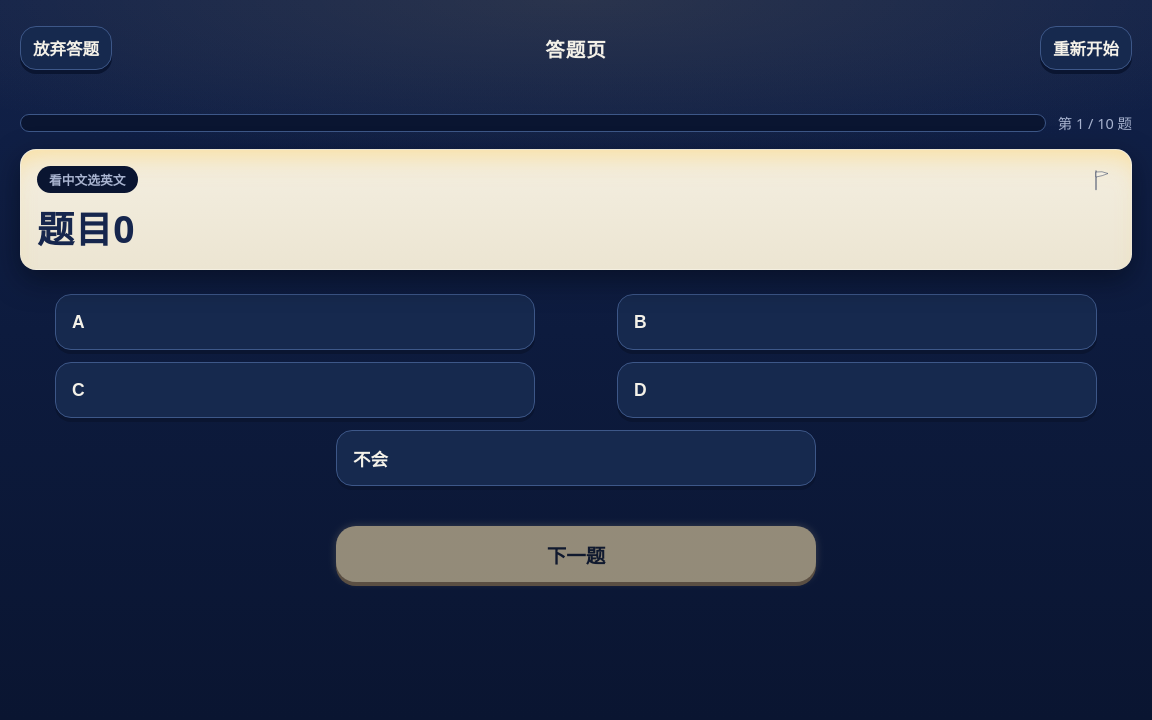
Test: T5 AC-R15-3-2/3-3/3-4 Quiz 三态 + 反馈（DOM） › AC-R15-3-4 不会：正确项 .reveal、「不会」disabled、feedback 图标存在
The image size is (1152, 720).
Click the button "不会": {"x": 370, "y": 460} left=336, top=430, right=816, bottom=486
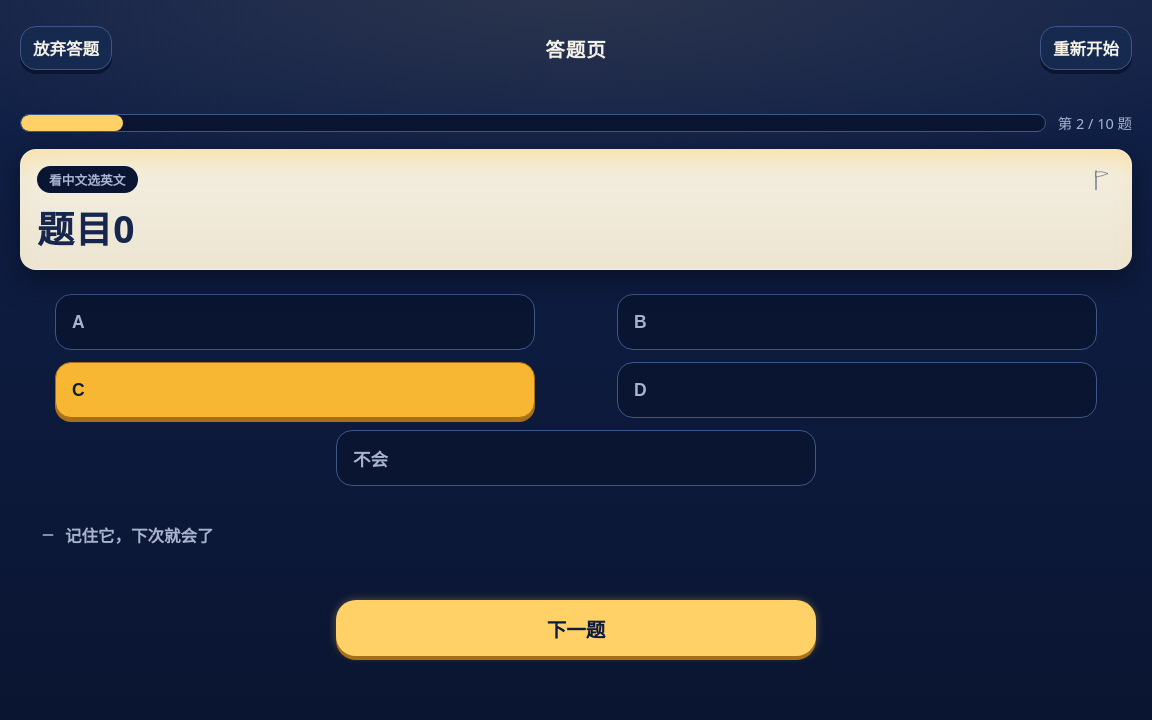
Result: the button "不会" is disabled at left=336, top=430, right=816, bottom=486
Result: the icon next to "记住它，下次就会了" is shown at left=39, top=526, right=57, bottom=544
